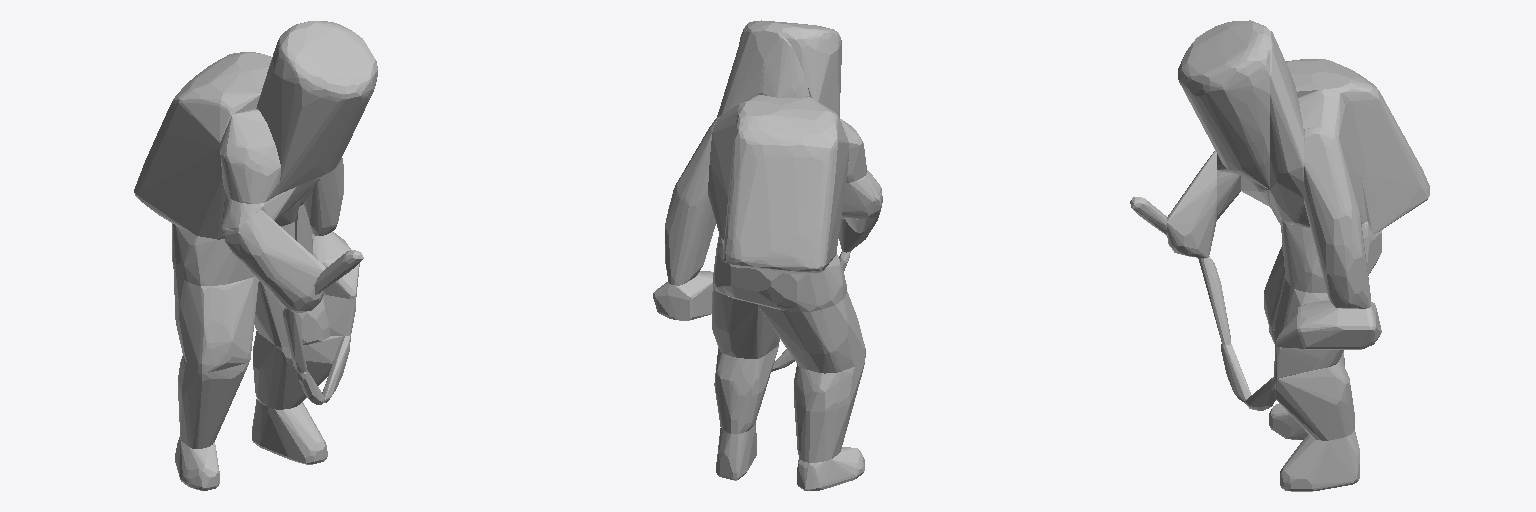
URDF robot description (root):
<?xml version="1.0"?>
<robot name="root">
  <link name="base_link">
    <visual>
      <origin xyz="0 0 0" rpy="0 0 0" />
      <geometry>
        <mesh filename="../meshes/unidex_sem_PersonStanding-84adb1e10894013b66e189d791440661_006.obj" scale="1.0000E+00 1.0000E+00 1.0000E+00" />
      </geometry>
      <material name="">
        <color rgba="7.50E-01 7.50E-01 7.50E-01 1" />
      </material>
    </visual>
    <collision>
      <origin xyz="0 0 0" rpy="0 0 0" />
      <geometry>
        <mesh filename="../meshes/unidex_sem_PersonStanding-84adb1e10894013b66e189d791440661_006.obj" scale="1.0000E+00 1.0000E+00 1.0000E+00" />
      </geometry>
    </collision>
  </link>
</robot>

--- What the picture shows (computed from the rendered views, not written in the file) ---
The picture shows the robot from 3 angles, left to right: view 1: azimuth 30°, elevation 25°; view 2: azimuth 150°, elevation 25°; view 3: azimuth 270°, elevation 25°; orthographic projection.
Model root with 1 links and 0 joints (none), rooted at base_link, posed all joints at 0.
Links seen in each view (by area): view 1: base_link; view 2: base_link; view 3: base_link.
Link boxes in pixels (left/top/right/bottom): base_link: left=134, top=21, right=377, bottom=490; base_link: left=653, top=20, right=882, bottom=490; base_link: left=1130, top=20, right=1429, bottom=491.
Bounding box of the posed robot: 0.0483 × 0.0677 × 0.1111 m (x, y, z).
Meshes: 1 distinct files referenced, 1 mesh visuals loaded (1 OBJ).
